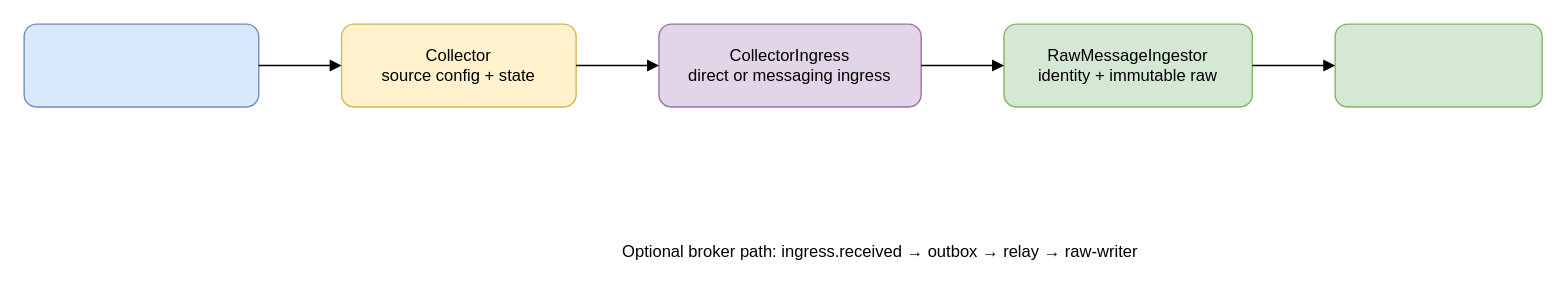
This 1566x304 diagram has some shape labels left out. Each missing label, with the centre of its shape:
"raw_messages NOTIFY / pending poll" goes at point (1438, 65).
"Telegram channels or alerts.in.ua API" goes at point (141, 65).
